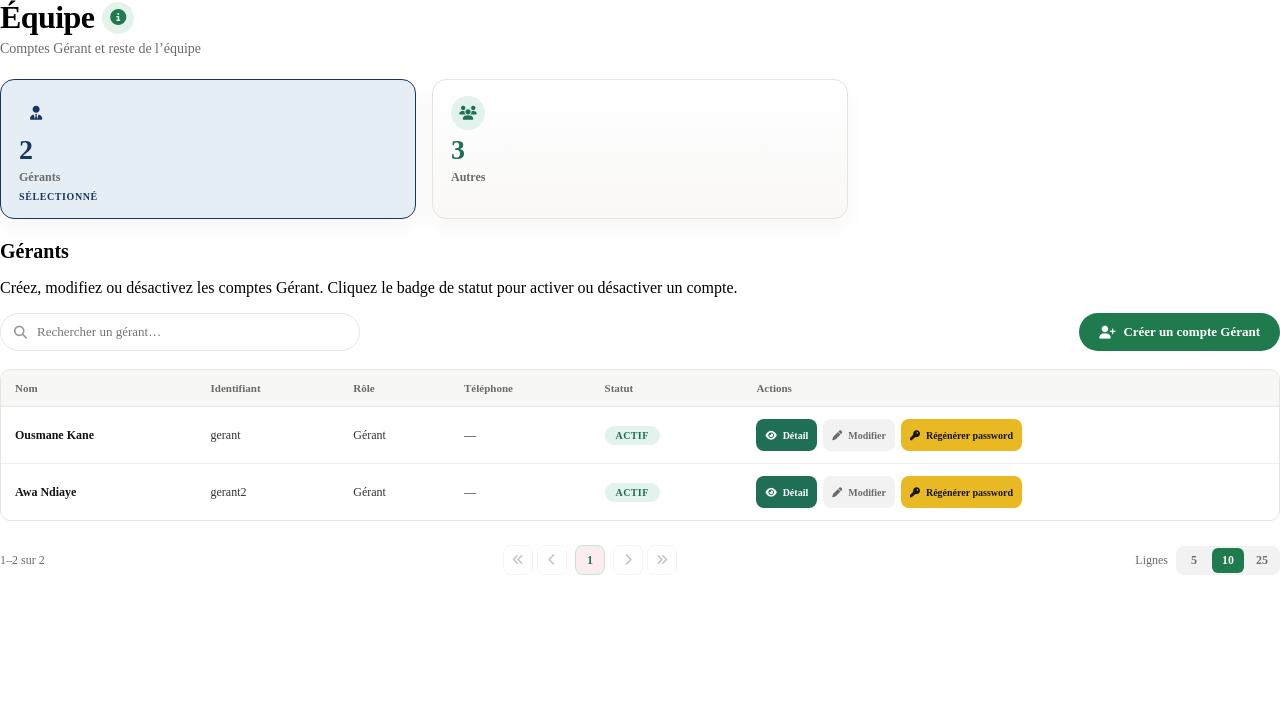
it: Page Personnel (Admin) › le statut Actif/Désactivé du groupe Gérants est un badge cliquable, sans bouton Désactiver séparé
The width and height of the screenshot is (1280, 720).
Later steps or results of the test are not shown.
Expected: the button "Désactiver" is not shown
Click the button "Actif" in the row of "Ousmane Kane" at point(632, 435), box 604,426 -> 660,445
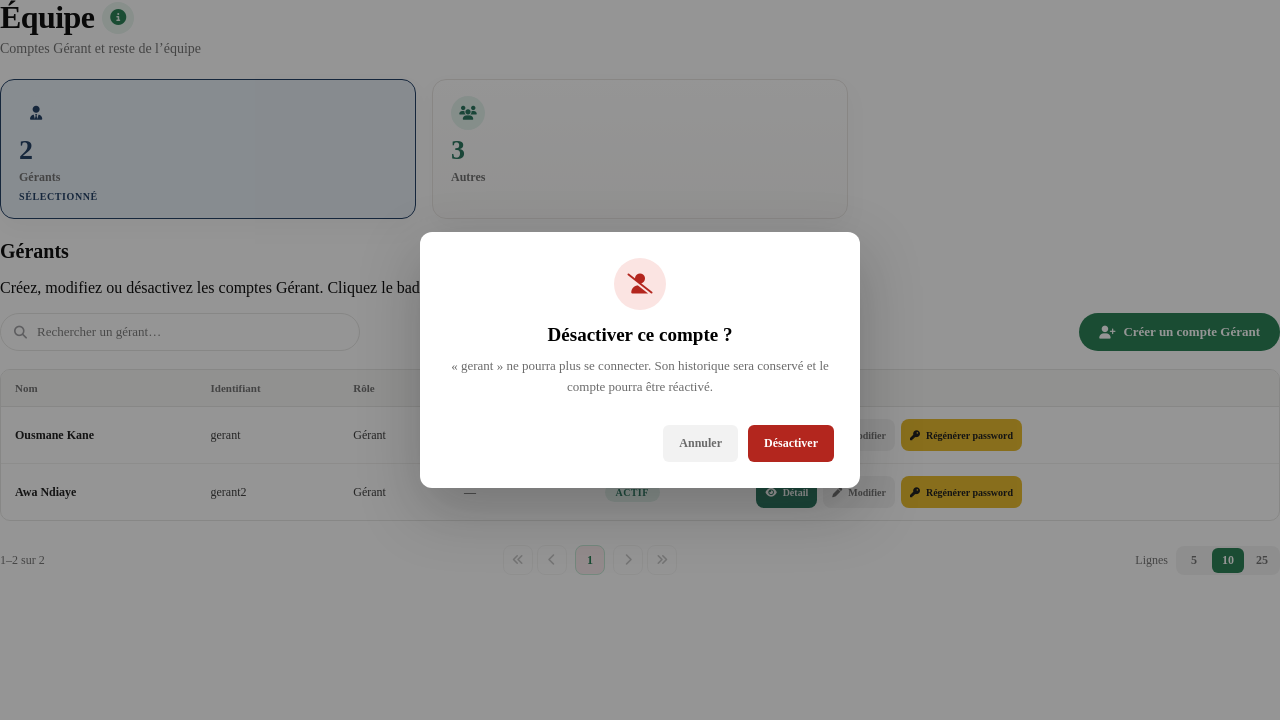
Expected: the heading "Désactiver ce compte ?" is shown, 548,324 -> 732,345
